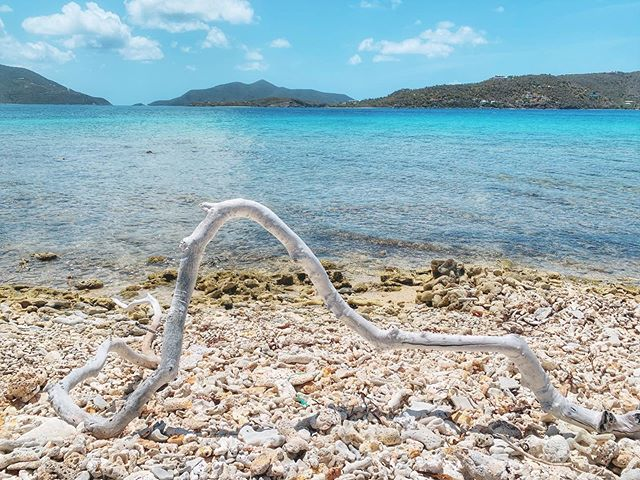mountain: (174, 70, 342, 100)
sea: (8, 108, 629, 256)
sky: (1, 1, 638, 63)
